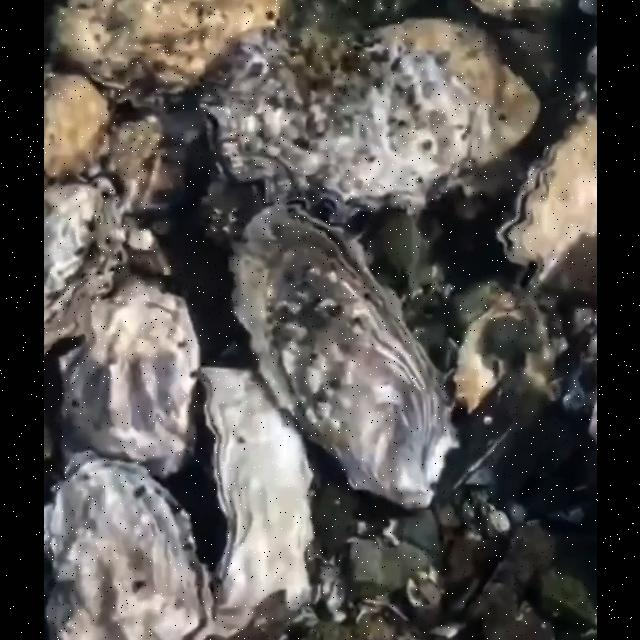Oyster-Closed: (191, 365, 315, 640), (58, 278, 200, 480), (49, 0, 285, 114), (43, 176, 127, 354), (44, 71, 112, 179)
Oyster-Open: (199, 14, 541, 226), (228, 202, 460, 510), (42, 447, 213, 640), (496, 106, 596, 300)
